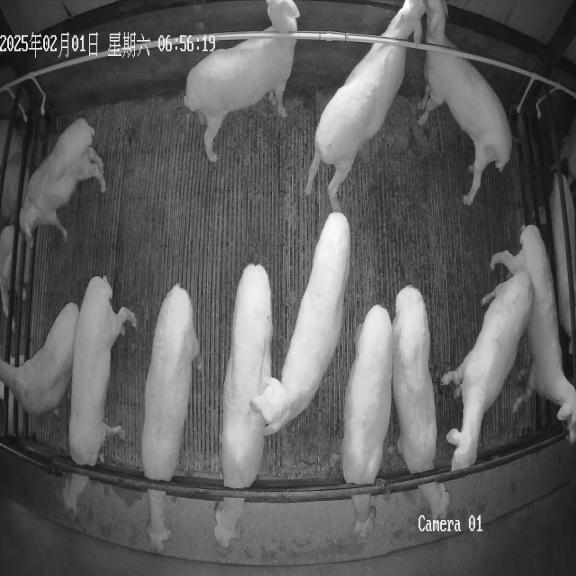eating: (62, 276, 137, 514), (214, 264, 272, 548), (141, 284, 199, 552), (392, 285, 449, 519), (341, 305, 393, 538)
stand: (306, 0, 426, 211), (253, 213, 350, 435), (417, 0, 512, 205), (490, 224, 576, 444), (184, 0, 299, 162), (441, 271, 532, 471), (19, 118, 106, 251), (0, 302, 79, 415)
